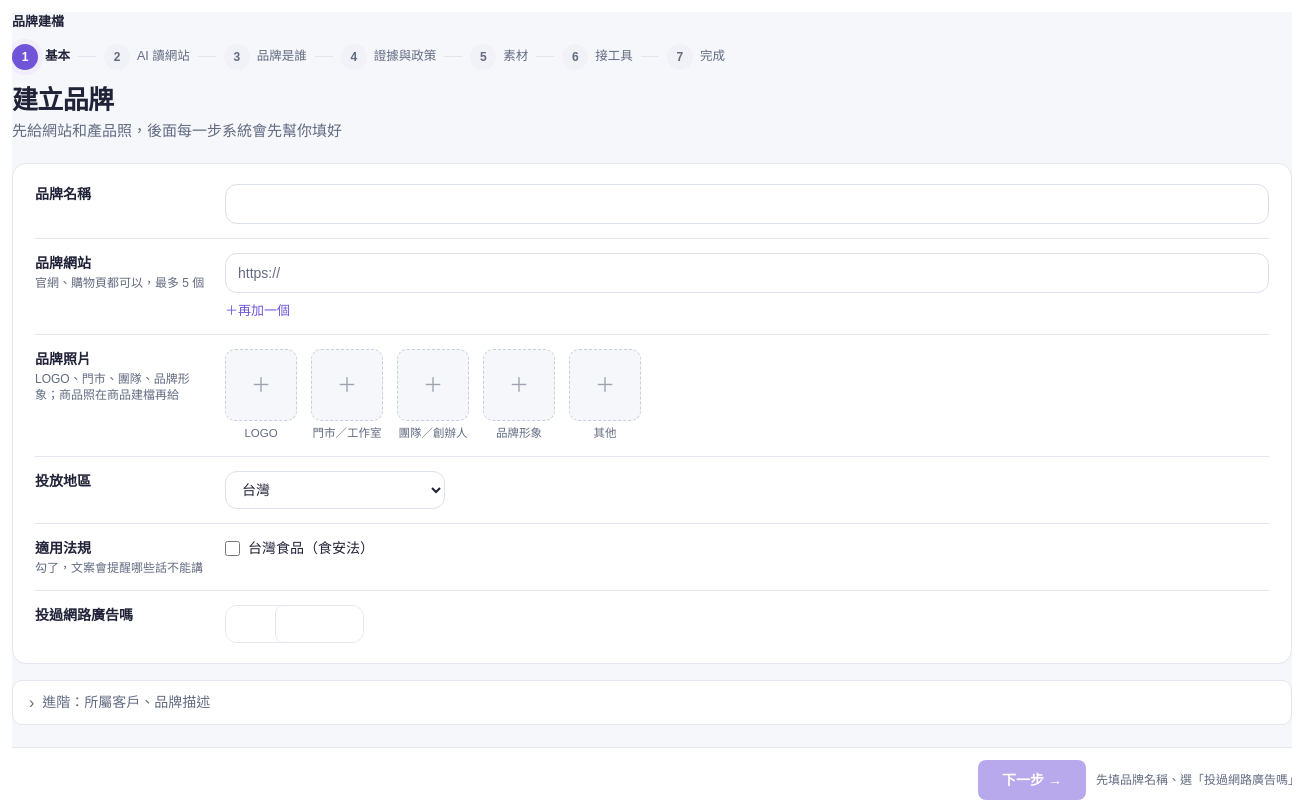
StartStep › 沒給網站和照片是「下一步」；給了網站換成「讓系統讀網站」並提示約 1 分鐘
Expected: the button "下一步 →" is shown, [978,760,1086,800]
Expected: the text "下一步系統讀網站，約 1 分鐘" is not shown
In the field named "品牌網站 1": (747,272) [225,252,1269,292], type "https://a.example"
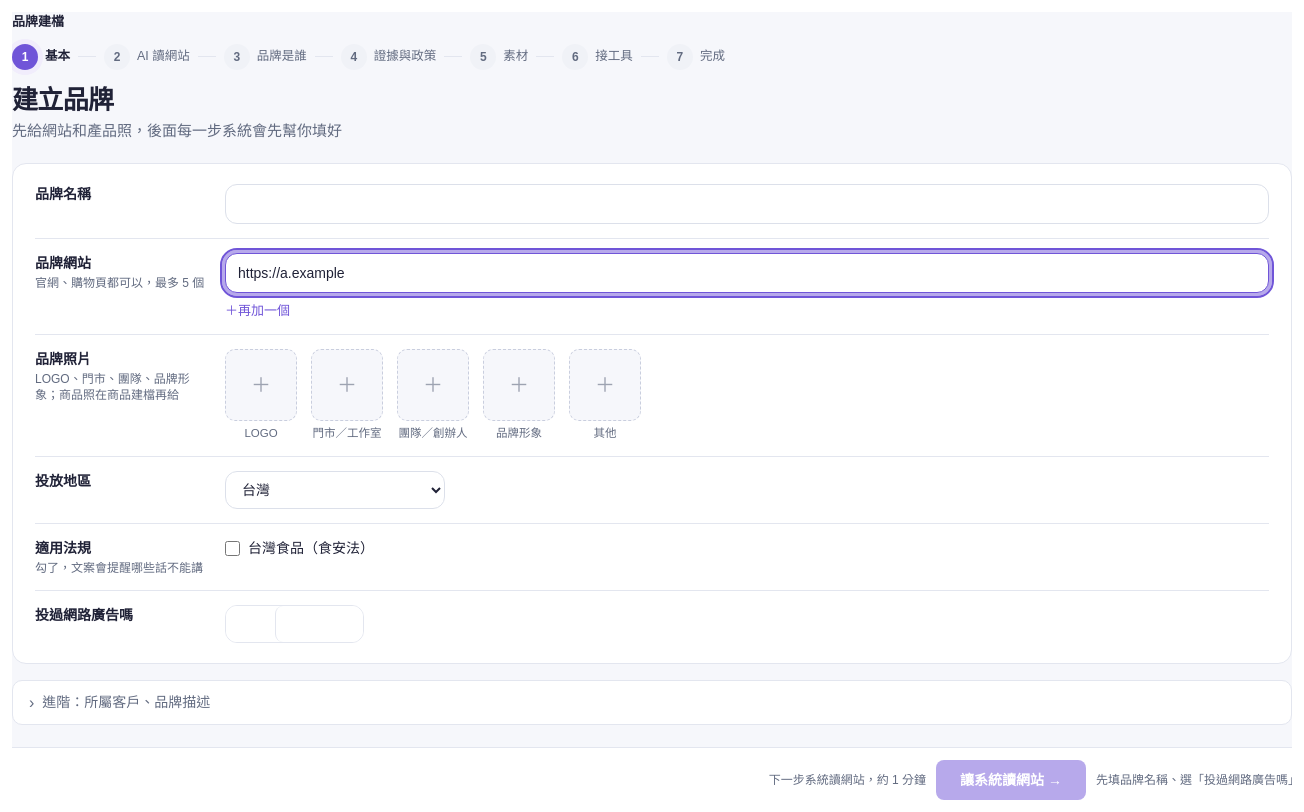
Result: the button "讓系統讀網站 →" is shown at [936,760,1086,800]
Result: the text "下一步系統讀網站，約 1 分鐘" is shown at [769,772,926,788]
